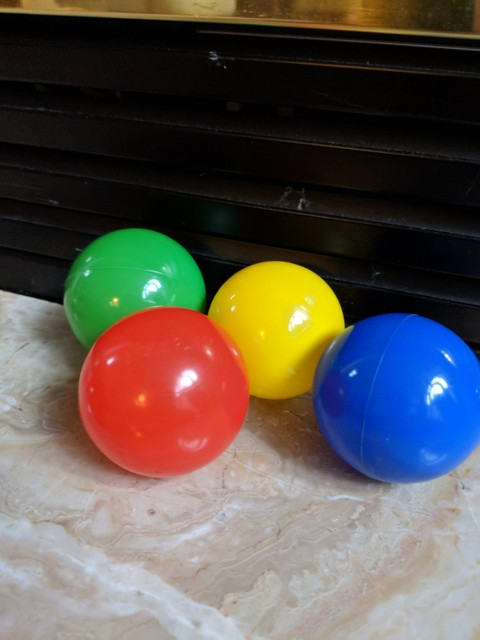Ball: (79, 308, 246, 475)
